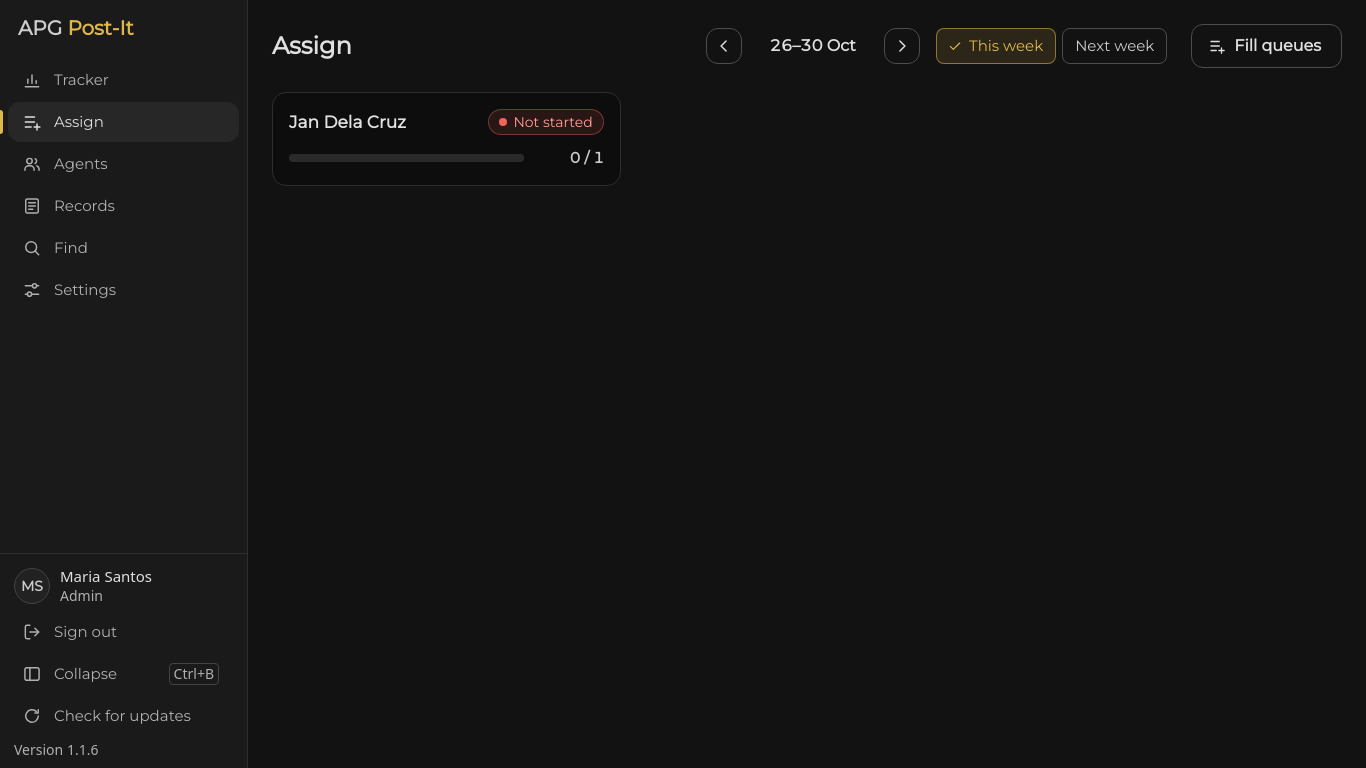
Scenario: Assign, the week picker and the link › opens on this week on a weekday, and keeps the week and the intern in the link
This screenshot has width=1366, height=768.
Click the button "Jan Dela Cruz Not started 0 / 1" at (347, 122), box left=272, top=92, right=621, bottom=186
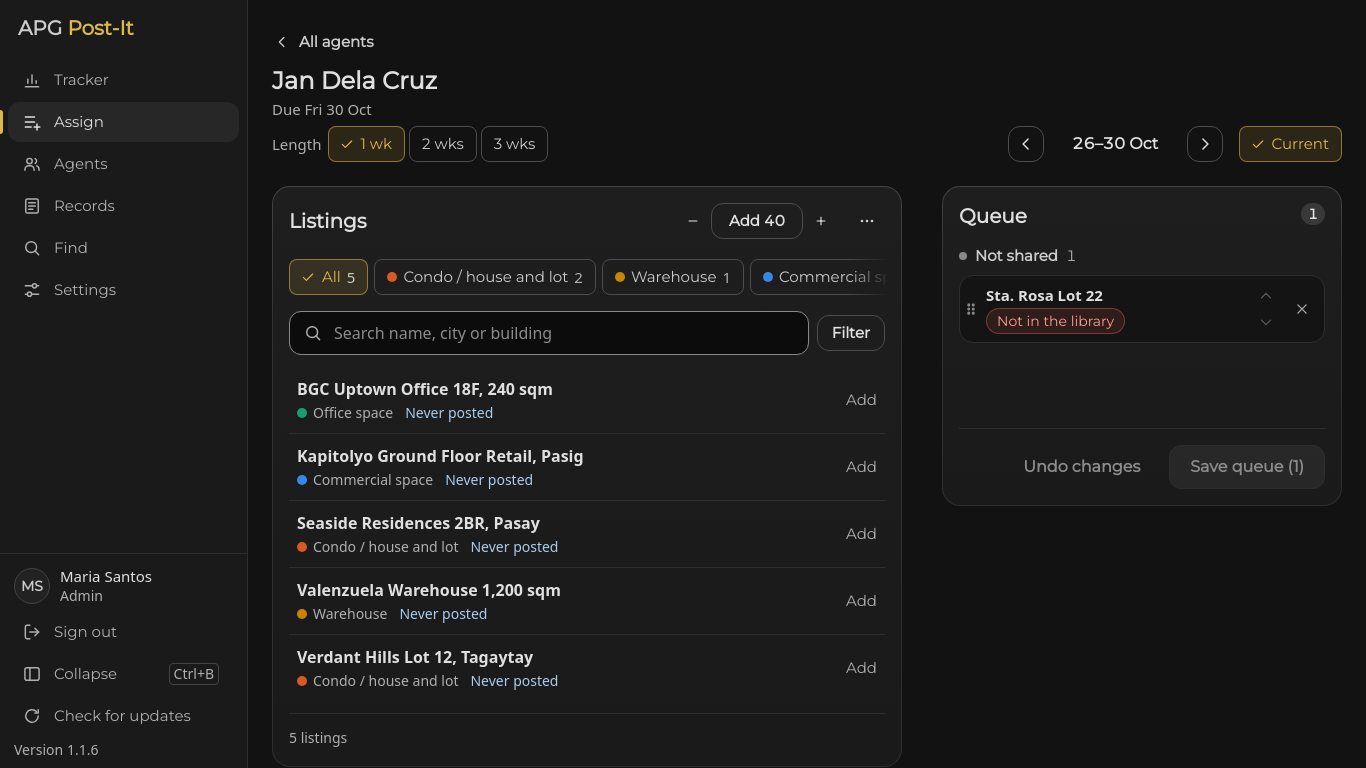
Check: the heading "Jan Dela Cruz" is shown, box left=272, top=66, right=437, bottom=96
Check: the text "Due Fri 30 Oct" is shown, box left=272, top=98, right=372, bottom=120
The next queue starts the Monday after this one's deadline, for 2 weeks.
Click the 2nd button named "Queue after" at (1204, 144), box left=1186, top=126, right=1222, bottom=162
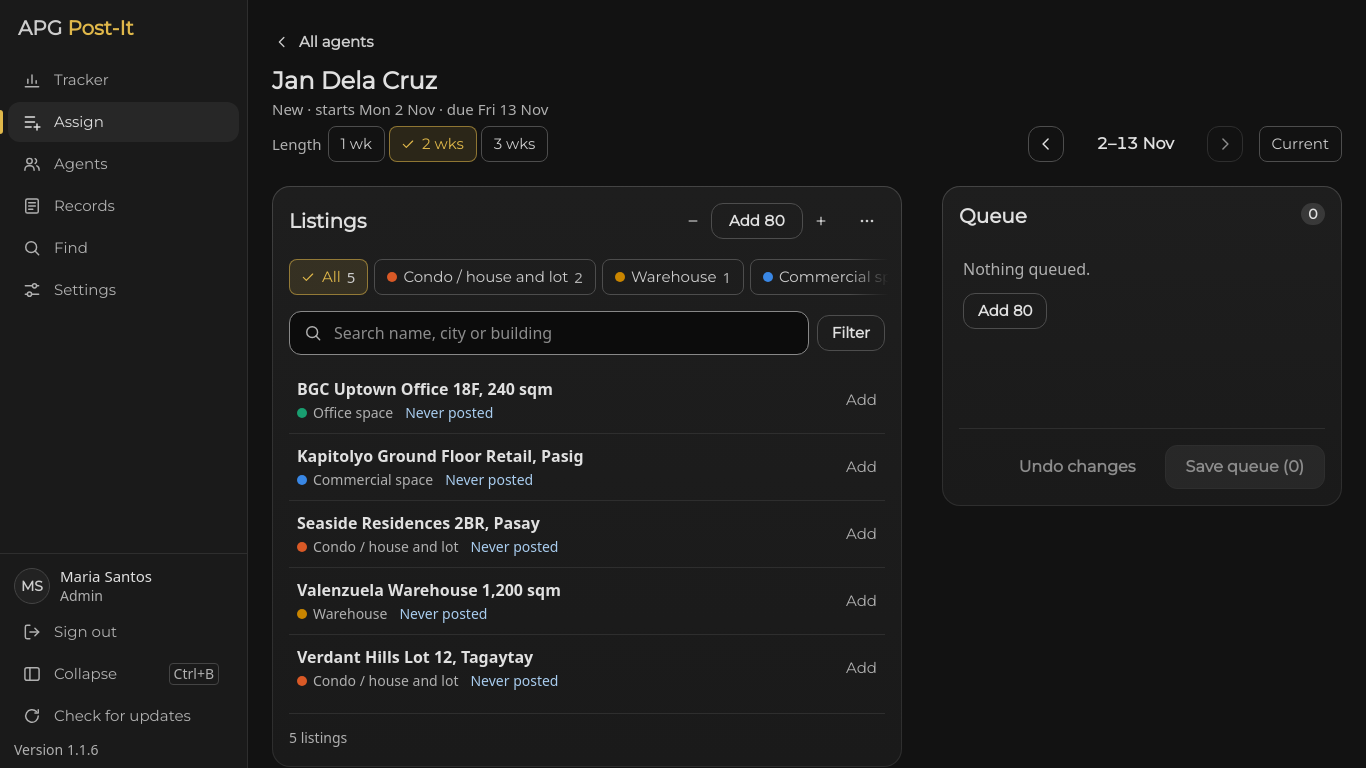
Check: the text with class "week-picker__label" reads "2–13 Nov", box left=1097, top=134, right=1174, bottom=153
Check: the text "New · starts Mon 2 Nov · due Fri 13 Nov" is shown, box left=272, top=98, right=548, bottom=120
Click the 1st button named "Queue before" at (1046, 144), box left=1028, top=126, right=1064, bottom=162
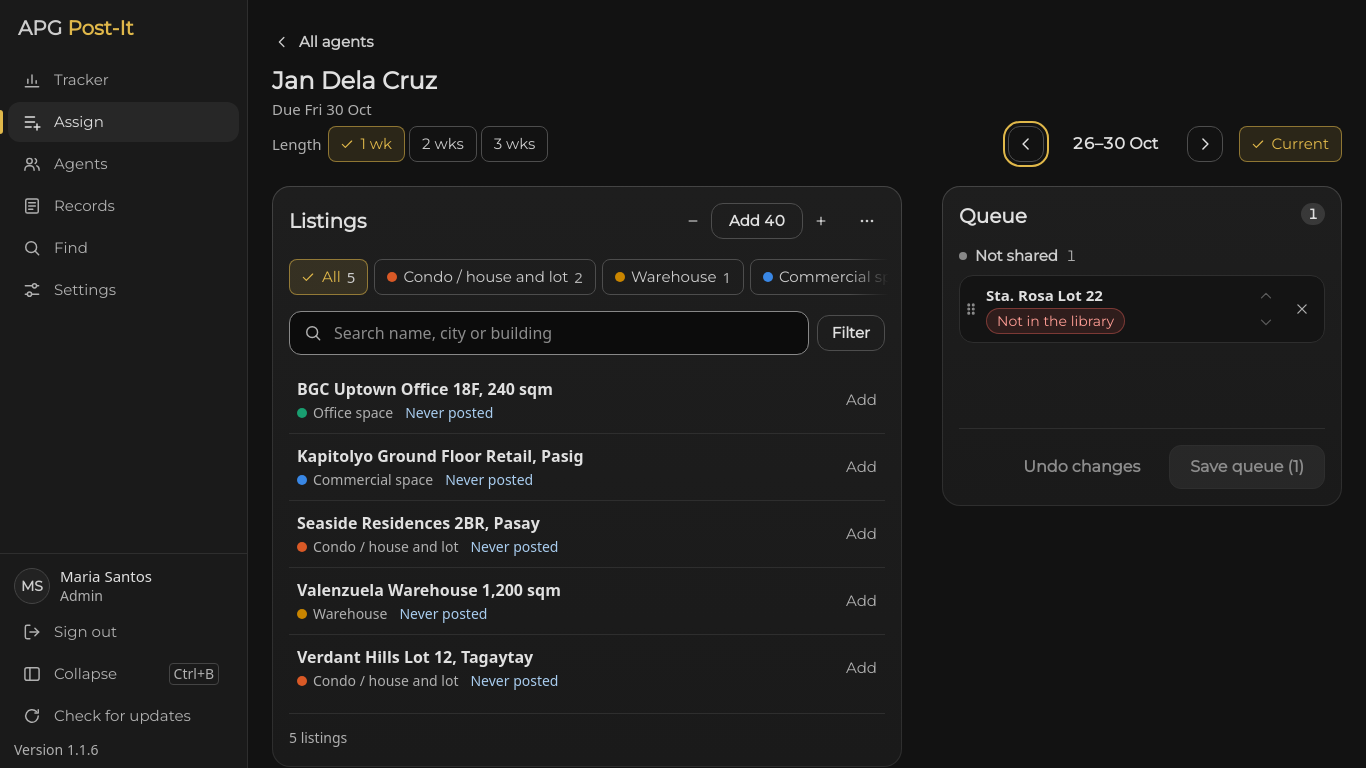
Click the button "All agents" at (325, 42), box left=262, top=24, right=388, bottom=60
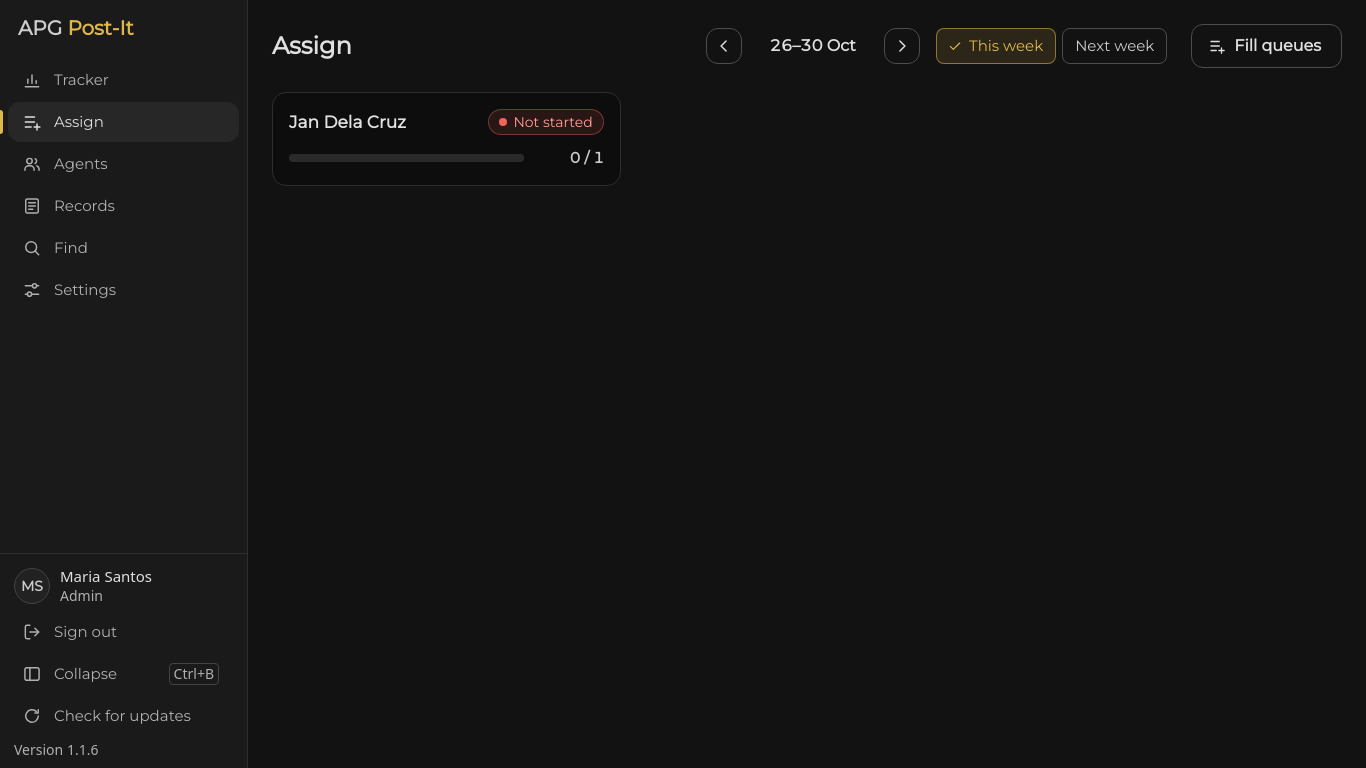
Check: the heading reads "Assign", box left=272, top=31, right=352, bottom=60
